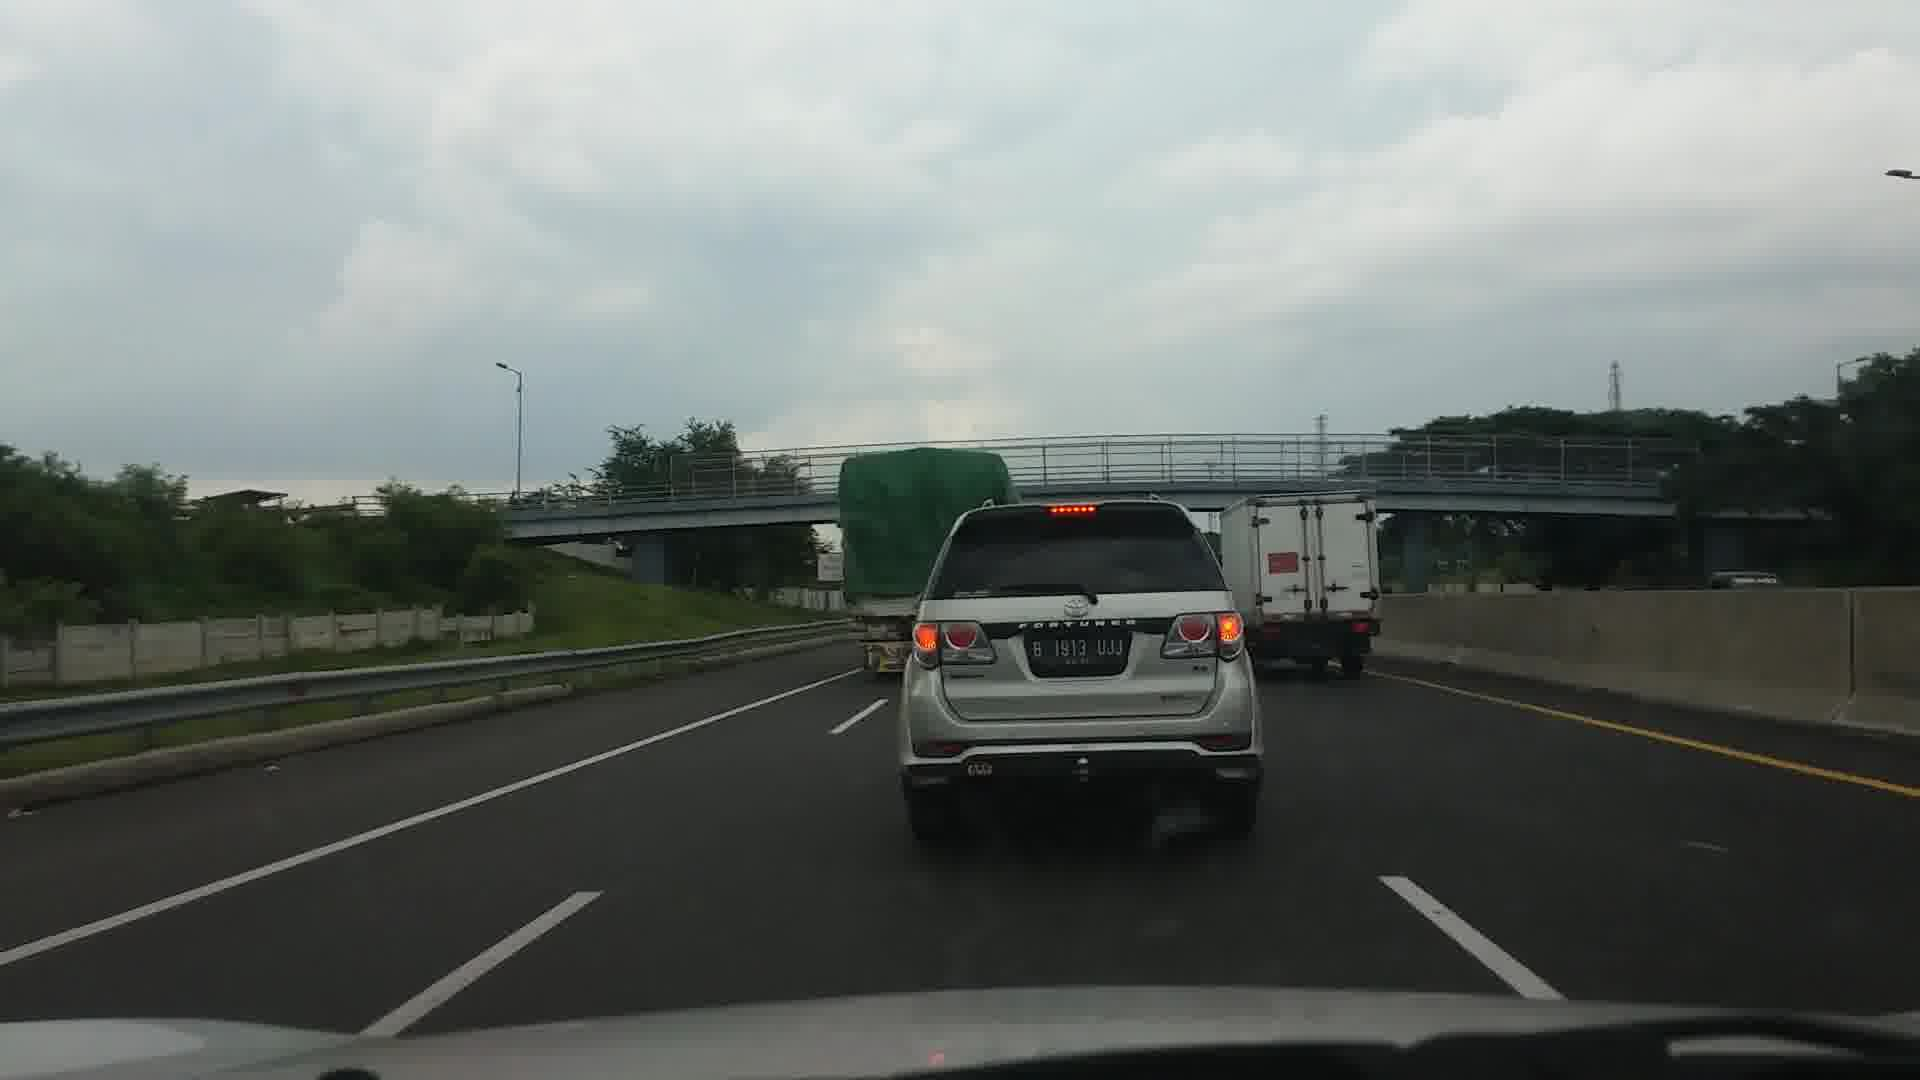plate_positive: (1029, 637, 1126, 665)
